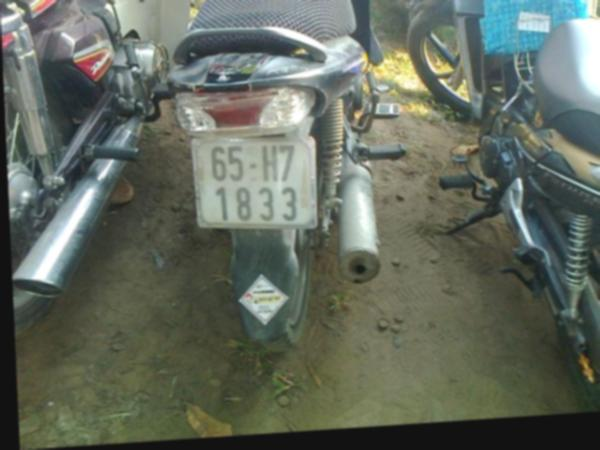License_Plate: (196, 134, 311, 231)
